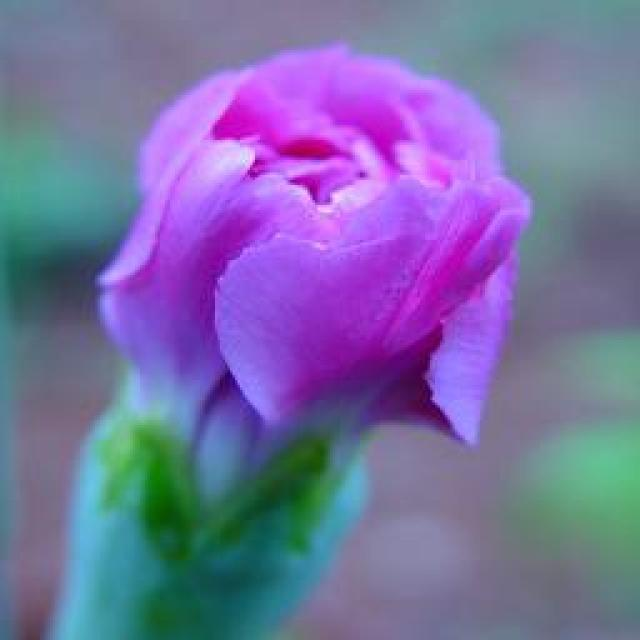carnation: (85, 0, 557, 580)
